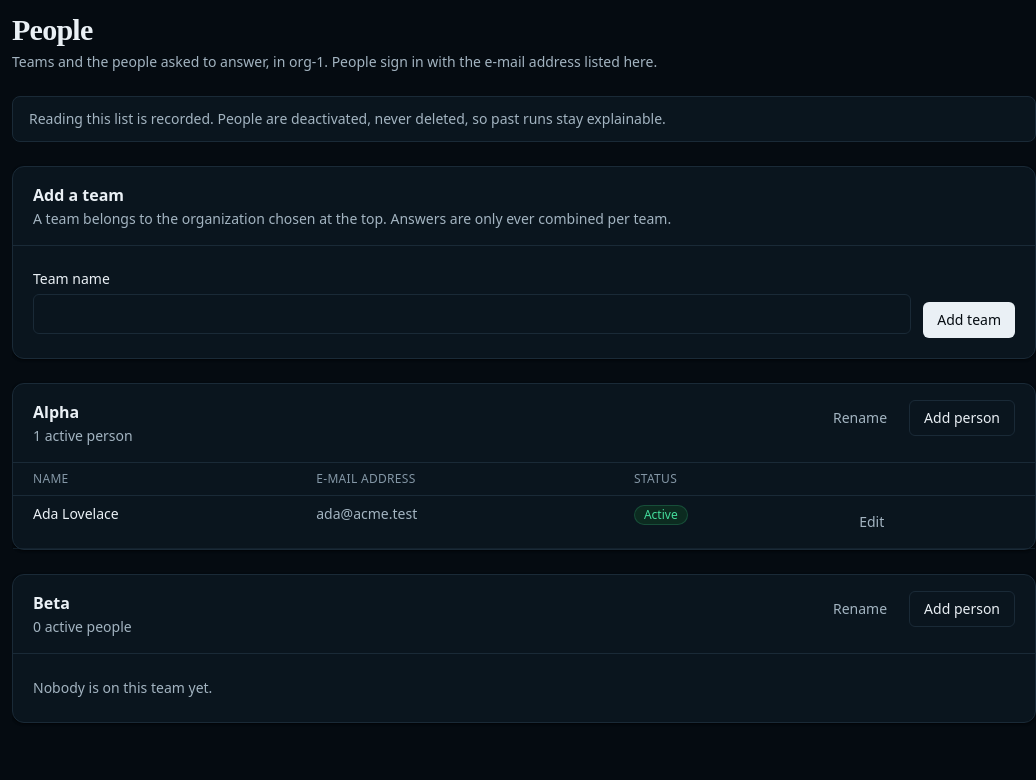
PeoplePage › renames a team
Expected: the element named "Team Alpha" is shown, [12,383,1035,550]
Click the button with aria-label "Rename Alpha" at (860, 418), box [819,400,901,436]
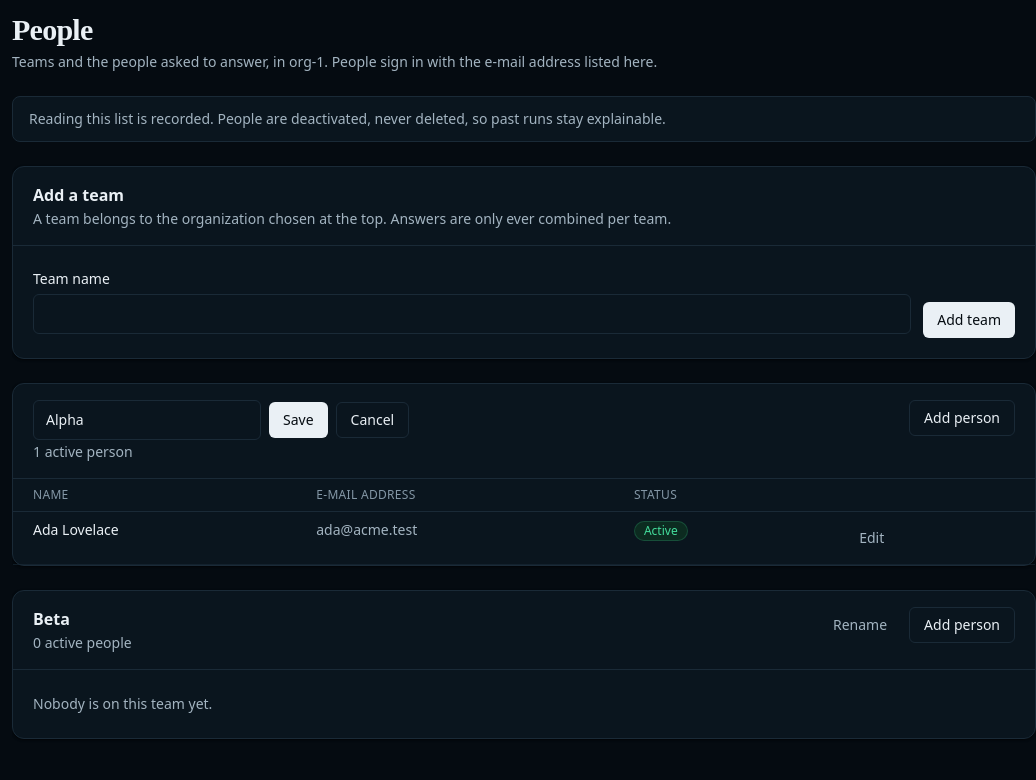
Replace the text in the field named "Team name" with "Alpha prime" at (147, 420), box [33,400,261,440]
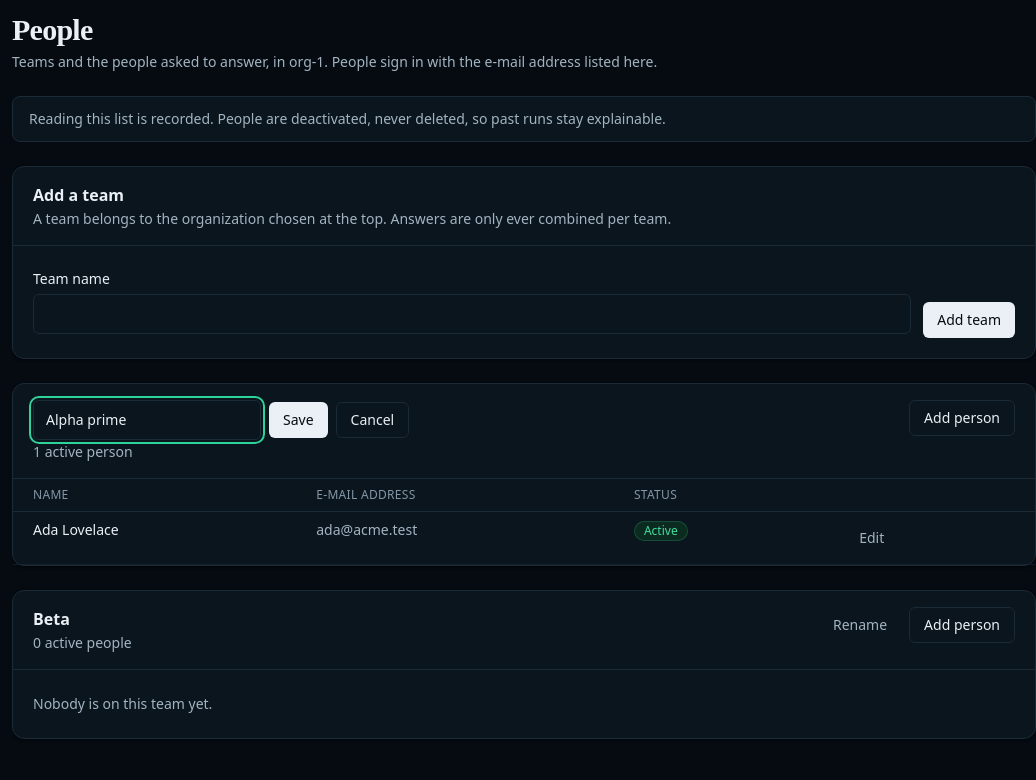
Click the button "Save" at (298, 420), box [269,402,328,438]
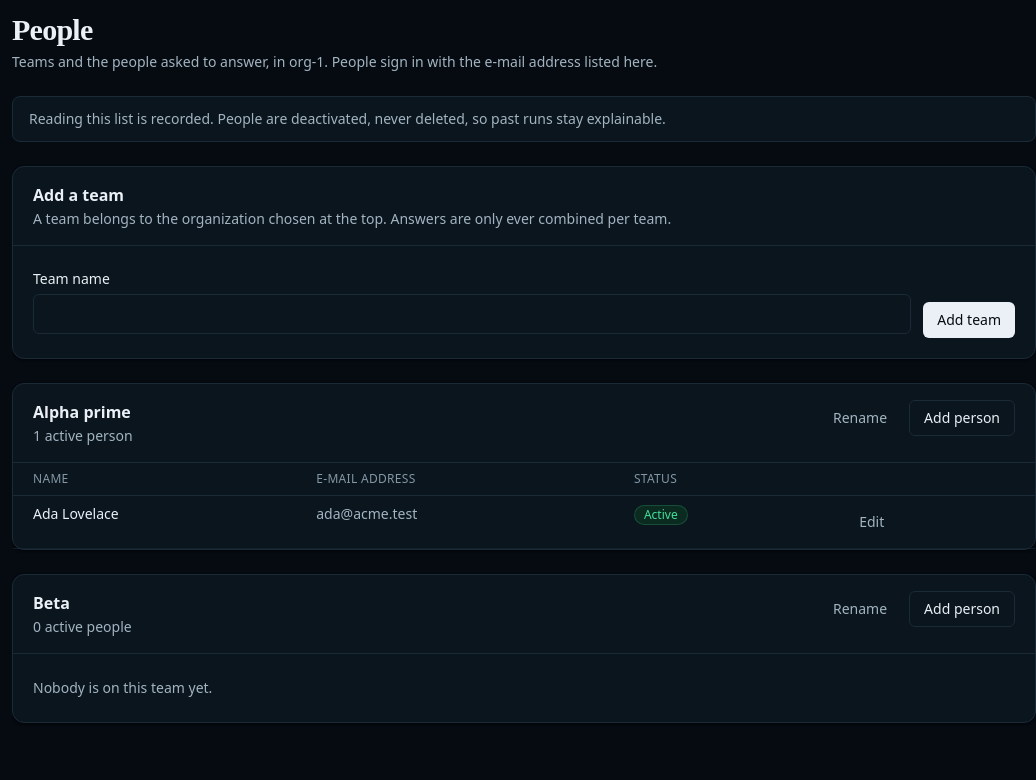
Expected: the element named "Team Alpha prime" is shown, [12,383,1035,550]
